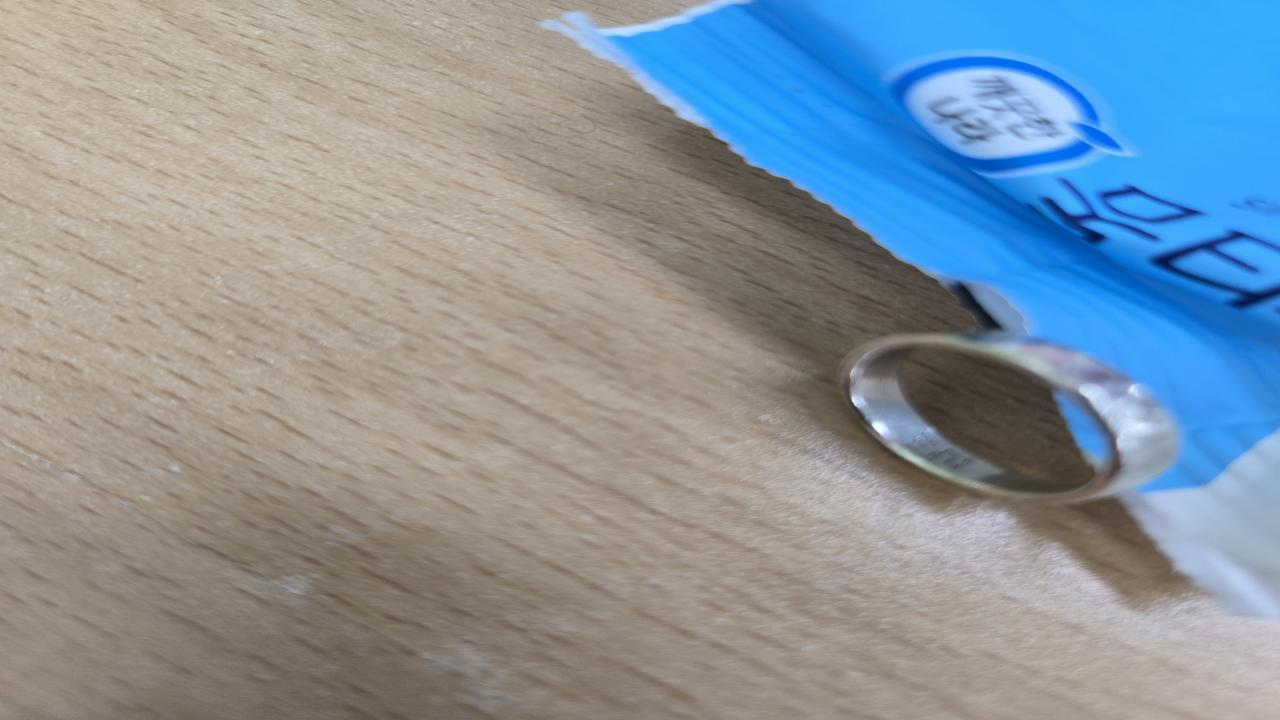ring: (836, 331, 1182, 507)
